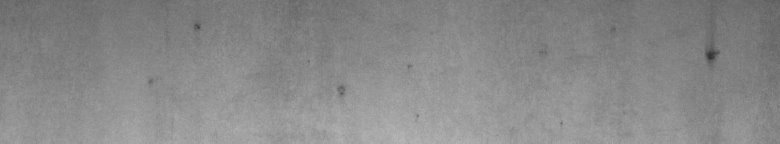fi: (700, 40, 723, 68)
